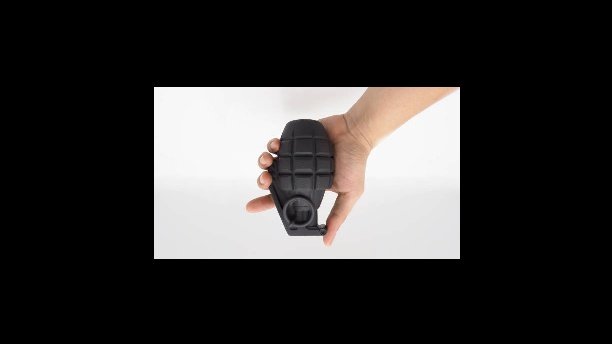e1: (268, 119, 331, 243)
